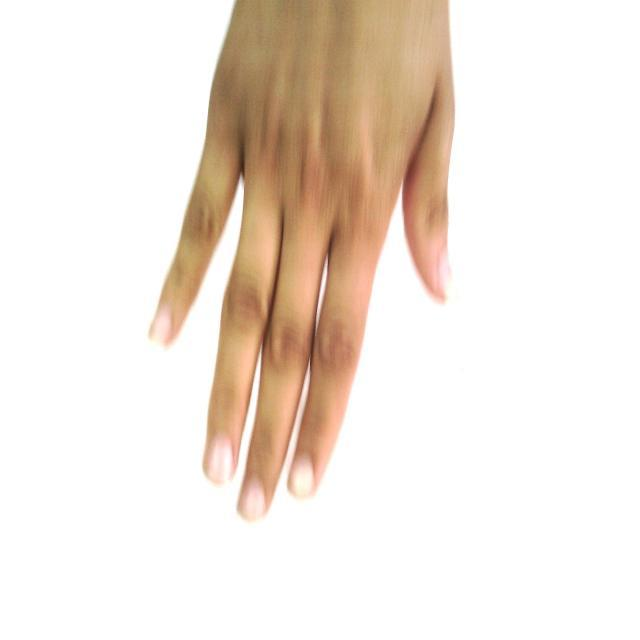Fingernail: (206, 437, 232, 485), (240, 479, 264, 520), (290, 458, 313, 498), (440, 249, 452, 298)
